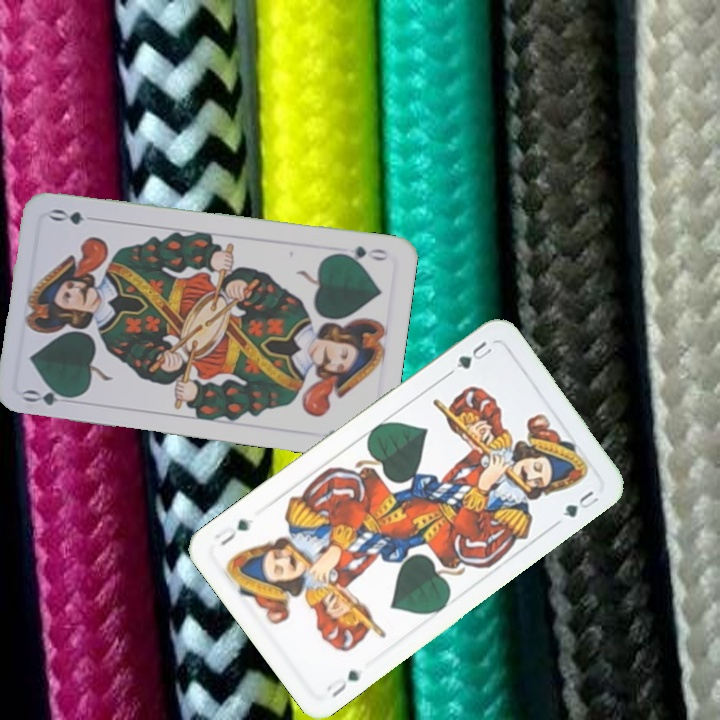GO: (20, 382, 80, 408), (332, 241, 391, 265)
GU: (452, 336, 495, 372), (322, 666, 362, 700)
